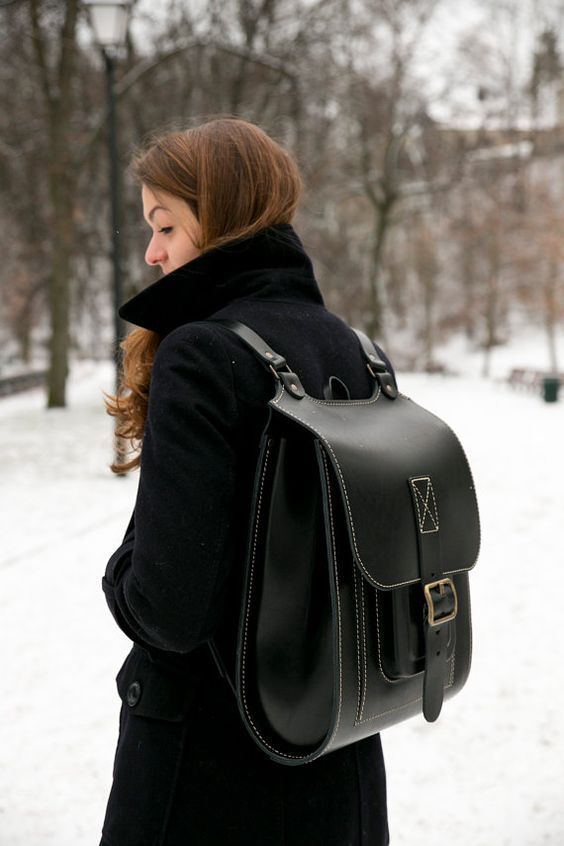cuero: (194, 312, 482, 764)
